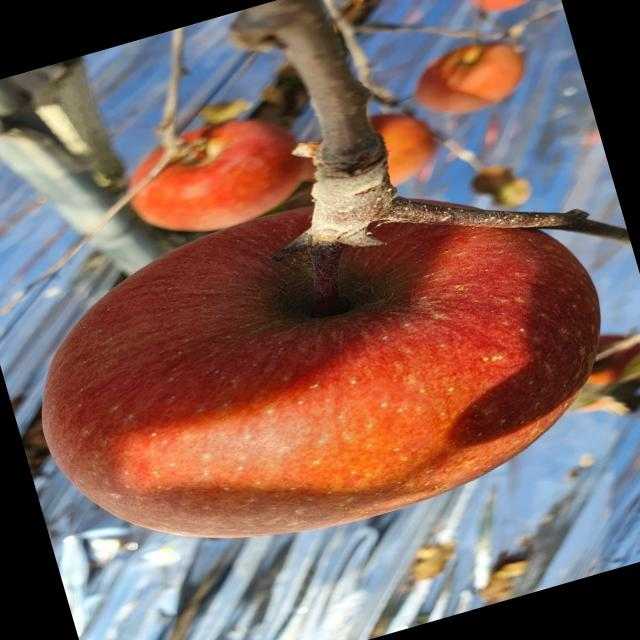fresh: (1, 122, 640, 611)
